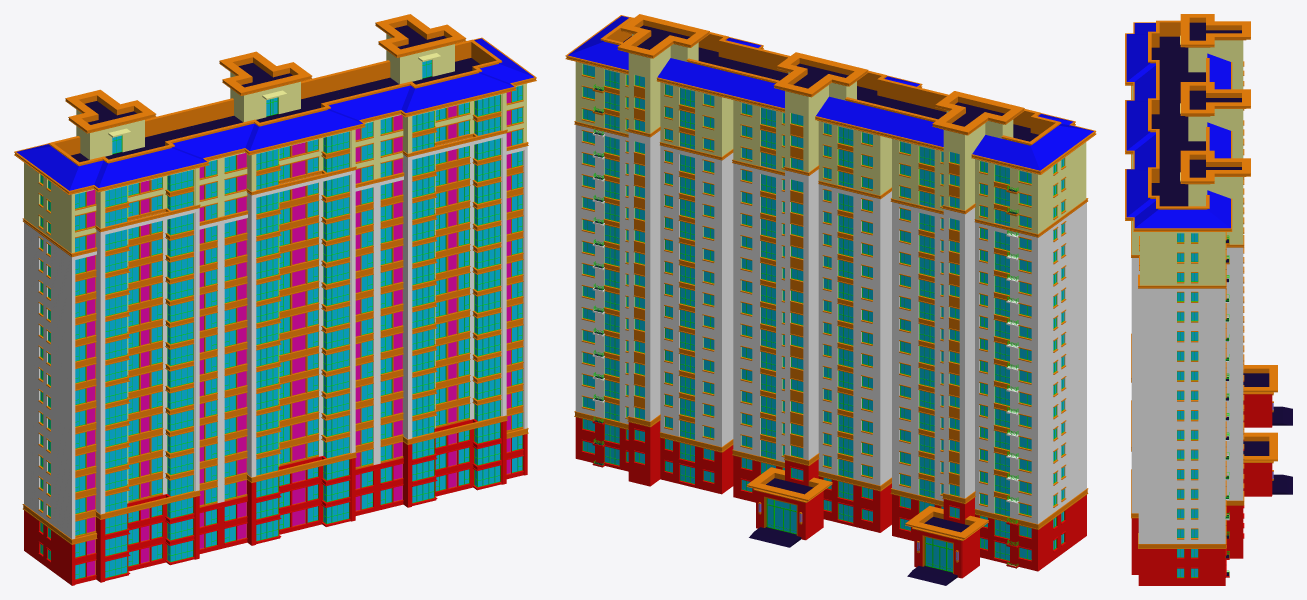
3 views of the same model, side by side, from view 1: azimuth 30°, elevation 25°; view 2: azimuth 150°, elevation 25°; view 3: azimuth 270°, elevation 25° (orthographic). The views are drawn at different scales.
Visible parts, largest first — view 1: BD_高楼; view 2: BD_高楼; view 3: BD_高楼.
Part boxes in pixels (x1=…): BD_高楼: x1=14, y1=14, x2=536, y2=585; BD_高楼: x1=565, y1=14, x2=1096, y2=585; BD_高楼: x1=1125, y1=14, x2=1292, y2=585.
Size of the model in its own units: 326 by 286 by 112.
